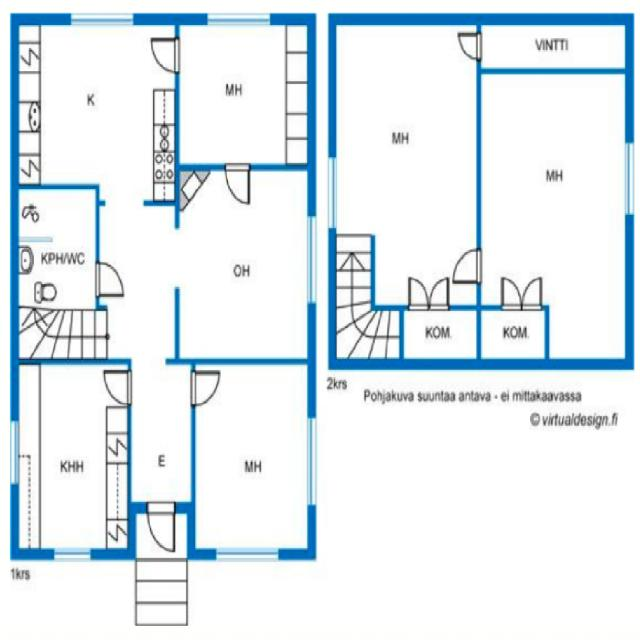door: (148, 502, 173, 550), (192, 371, 219, 405), (226, 165, 249, 203), (105, 371, 132, 403), (96, 263, 123, 295), (454, 250, 481, 282), (152, 40, 178, 72), (428, 277, 448, 310), (502, 277, 522, 310), (409, 277, 428, 310), (522, 277, 541, 310), (458, 34, 481, 59)
